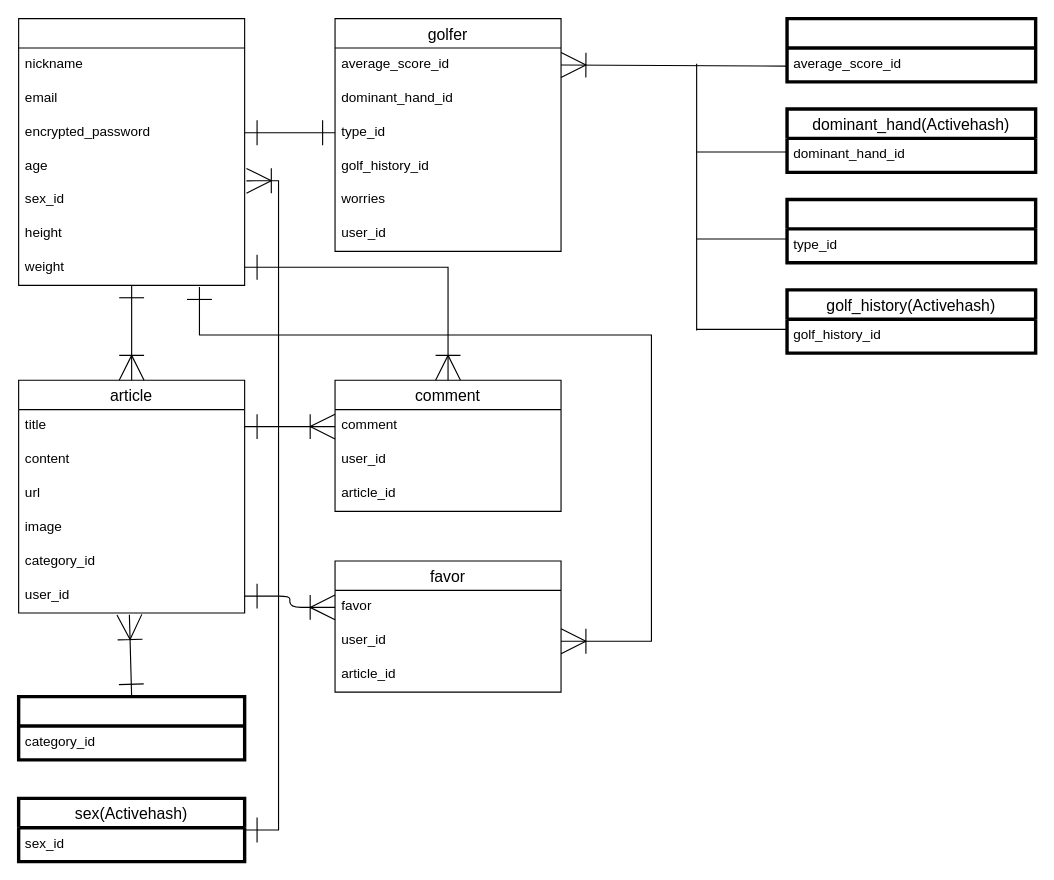
The diagram is 1054 pixels wide and 880 high, and some of its shapes have lost their labels. The shapes that lost their labels are listed below. From the top down, each one's box as (x1, y1, x2, y2) in pixels, then its label:
(785, 16, 1037, 83): average_score(Activehash)
(18, 18, 245, 285): user
(785, 197, 1037, 264): type(Activehash)
(16, 694, 246, 761): category(Activehash)
